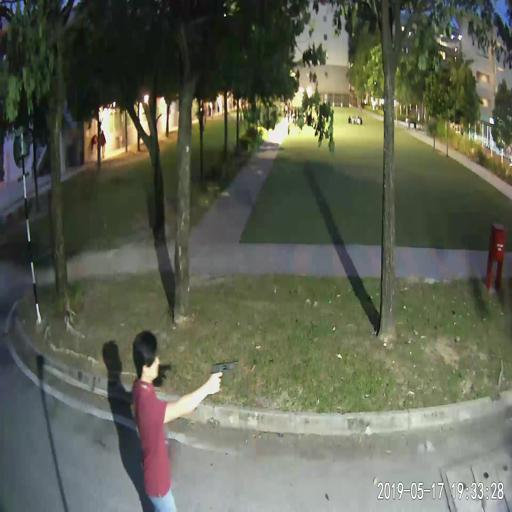pistol: (210, 358, 238, 392)
